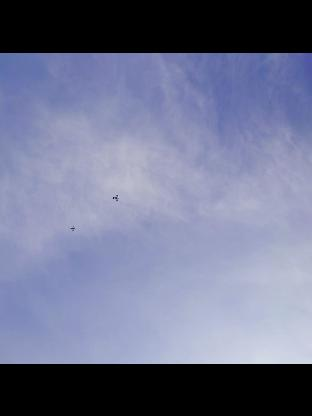Tornado: (70, 223, 76, 230), (114, 194, 120, 200)
